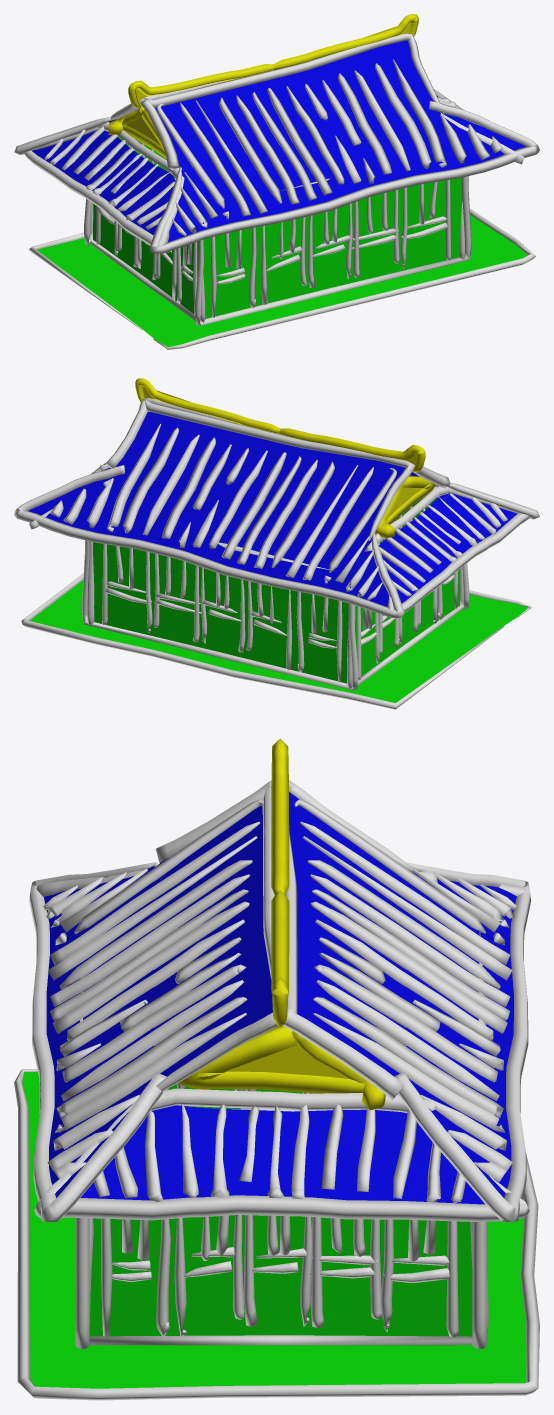
Rendered from house2.fbx.
3 views of the same model, one above another, from view 1: azimuth 30°, elevation 25°; view 2: azimuth 150°, elevation 25°; view 3: azimuth 270°, elevation 25° (orthographic). The views are drawn at different scales.
Visible parts, largest first — view 1: GP_Layer.006; view 2: GP_Layer.006; view 3: GP_Layer.006.
Part boxes in pixels (bbox=[...]): GP_Layer.006: bbox=[14, 14, 539, 349]; GP_Layer.006: bbox=[14, 378, 539, 709]; GP_Layer.006: bbox=[14, 738, 539, 1400].
Size of the model in its own units: 930 by 472 by 604.
